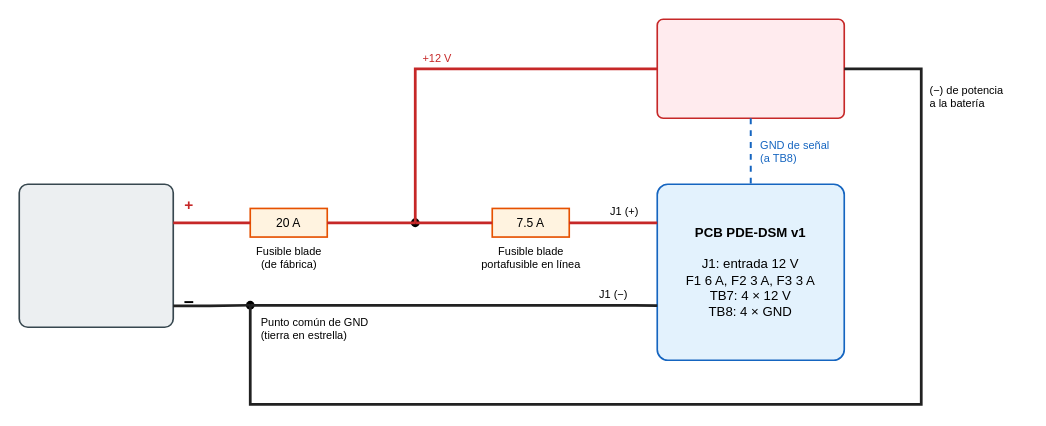
Image size: 1046x426. Some labels were removed from this diagram. Here are the shapes that lost their labels. From the top down, the centre of each, then its label:
point (750, 68): MDD10A driver de motores DC
point (96, 255): Batería TETRIX 12 V NiMH
